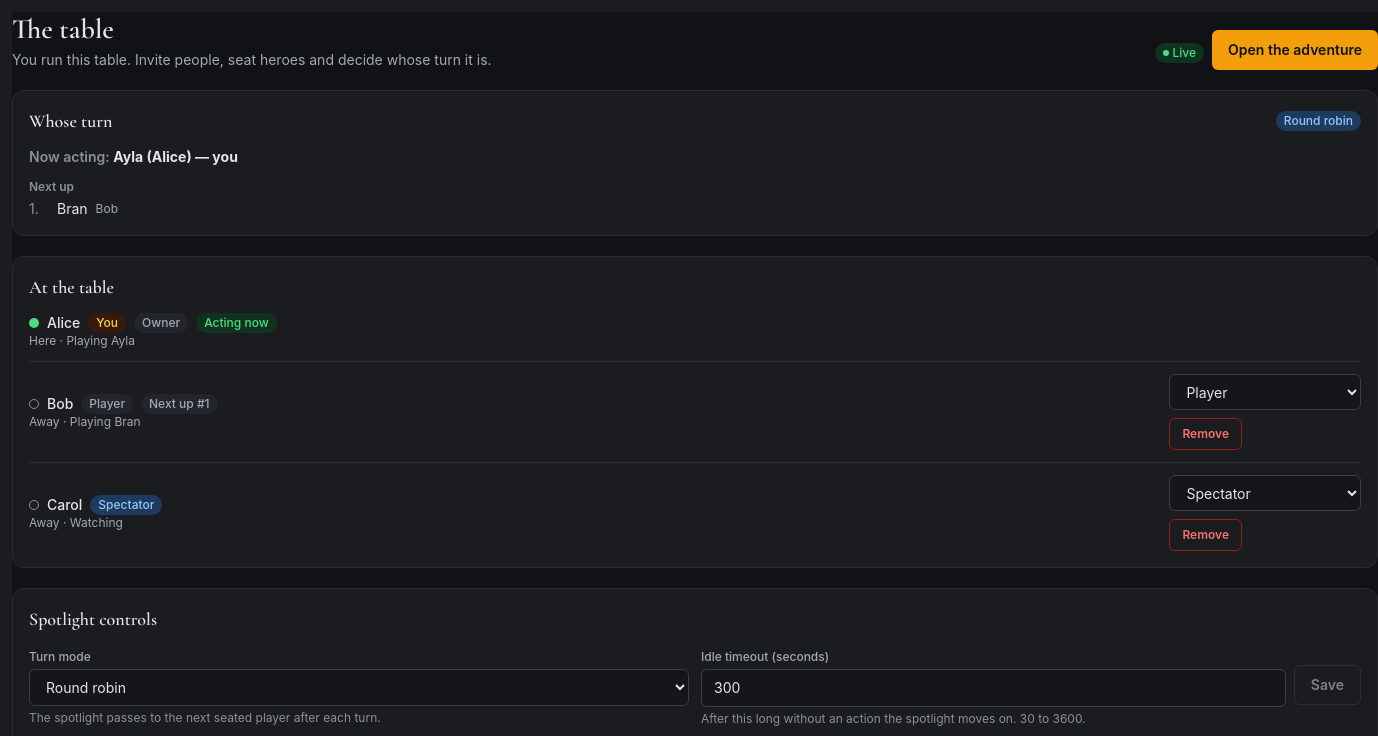
Test: owner party controls › shows a safe error when a member change is refused
Click the 1st button "Remove".
click(1206, 434)  # box [1169, 418, 1242, 450]
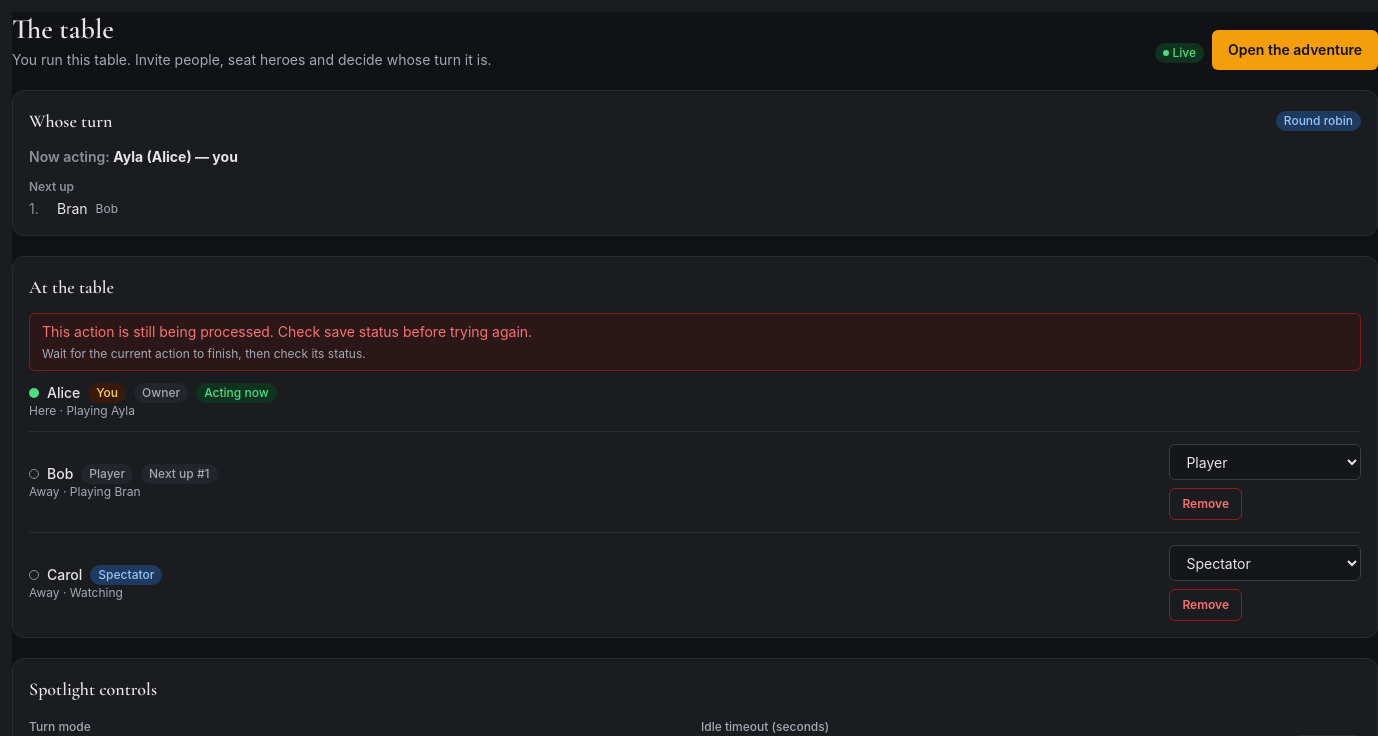
Now the message is shown, box [29, 313, 1361, 371]
